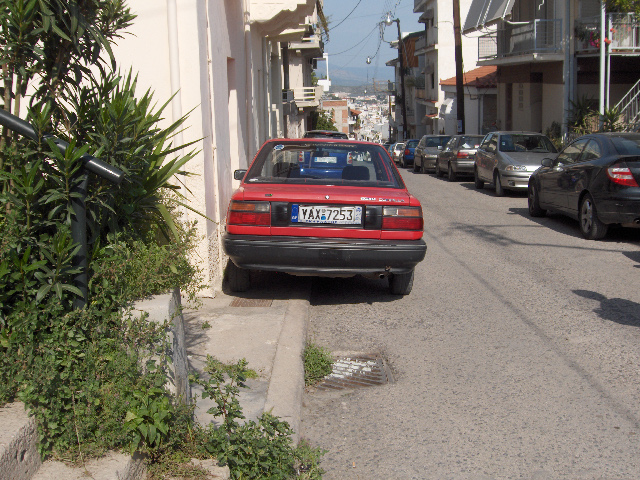licenseplate: (290, 204, 361, 224)
